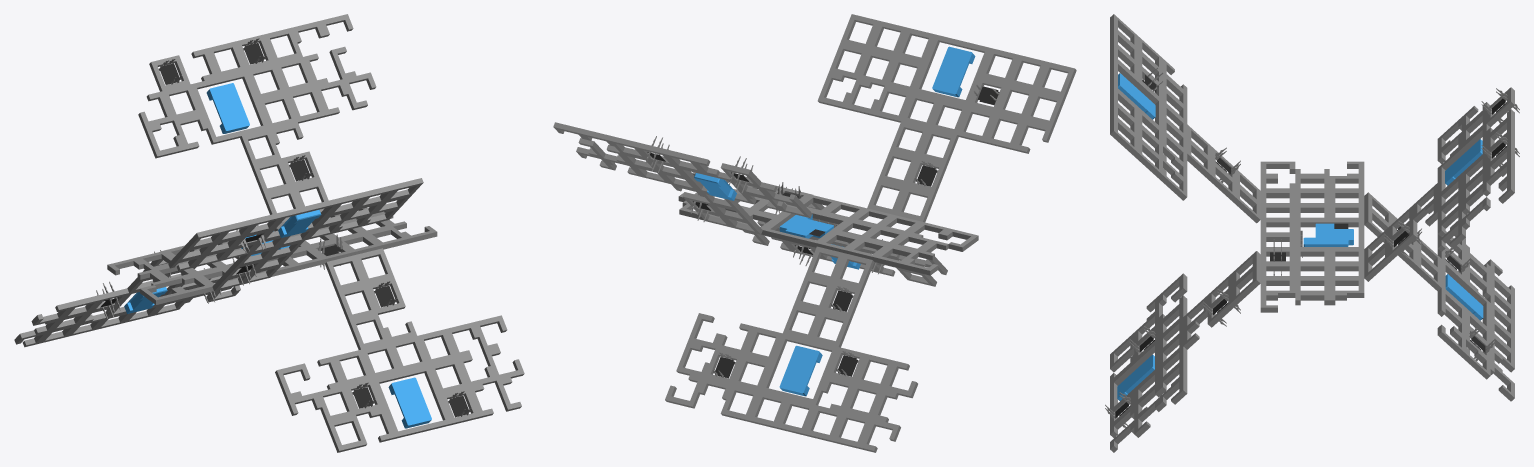
Rendered from StarbaseAtlasProjectKingdomHQ.glb.
The picture shows the model from 3 angles, left to right: view 1: azimuth 30°, elevation 25°; view 2: azimuth 150°, elevation 25°; view 3: azimuth 270°, elevation 25°; orthographic projection. The views are drawn at different scales.
Visible parts, largest first — view 1: Block_Ship_Hangars_Kingdom.001, Block_Ship_Hangars_Kingdom.003, Block_Ship_Hangars_Kingdom.002, Quarter_Block_Towers.020, Quarter_Block_Towers.025, Quarter_Block_Towers.023, Quarter_Block_Towers.024, Quarter_Block_Towers.019, Quarter_Block_Towers.018, Block_Ship_Hangars_Kingdom.004, Quarter_Block.131, Quarter_Block.124 (+29 smaller); view 2: Block_Ship_Hangars_Kingdom.004, Block_Ship_Hangars_Kingdom.002, Block_Ship_Shop_Kingdom.001, Block_Ship_Hangars_Kingdom.001, Quarter_Block_Towers.021, Quarter_Block_Towers.026, Quarter_Block_Towers.027, Quarter_Block_Towers.028, Quarter_Block_Towers.022, Quarter_Block.138, Quarter_Block.112, Quarter_Block.104 (+41 smaller); view 3: Block_Ship_Shop_Kingdom.001, Block_Ship_Hangars_Kingdom.002, Block_Ship_Hangars_Kingdom.001, Block_Ship_Hangars_Kingdom.004, Block_Ship_Hangars_Kingdom.003, Quarter_Block_Towers.018, Quarter_Block_Towers.020, Quarter_Block_Towers.023, Quarter_Block.122, Quarter_Block.127, Quarter_Block_Towers.017, Quarter_Block.103 (+53 smaller).
Boxes of the visible parts, x1,y1,x2,y2 form: Block_Ship_Hangars_Kingdom.001: [190, 70, 269, 144]; Block_Ship_Hangars_Kingdom.003: [373, 365, 451, 438]; Block_Ship_Hangars_Kingdom.002: [262, 198, 338, 241]; Quarter_Block_Towers.020: [149, 55, 190, 91]; Quarter_Block_Towers.025: [440, 387, 479, 425]; Quarter_Block_Towers.023: [366, 277, 405, 314]; Quarter_Block_Towers.024: [344, 379, 383, 416]; Quarter_Block_Towers.019: [235, 34, 274, 70]; Quarter_Block_Towers.018: [281, 151, 320, 187]; Block_Ship_Hangars_Kingdom.004: [105, 283, 181, 317]; Quarter_Block.131: [326, 415, 367, 452]; Quarter_Block.124: [336, 284, 377, 321]; Block_Ship_Hangars_Kingdom.004: [760, 333, 838, 405]; Block_Ship_Hangars_Kingdom.002: [913, 34, 990, 105]; Block_Ship_Shop_Kingdom.001: [763, 206, 850, 247]; Block_Ship_Hangars_Kingdom.001: [677, 166, 756, 204]; Quarter_Block_Towers.021: [906, 157, 947, 194]; Quarter_Block_Towers.026: [822, 282, 862, 319]; Quarter_Block_Towers.027: [827, 347, 865, 382]; Quarter_Block_Towers.028: [704, 349, 742, 384]; Quarter_Block_Towers.022: [968, 77, 1007, 112]; Quarter_Block.138: [833, 253, 874, 290]; Quarter_Block.112: [1024, 91, 1065, 127]; Quarter_Block.104: [895, 186, 935, 222]; Block_Ship_Shop_Kingdom.001: [1295, 220, 1364, 257]; Block_Ship_Hangars_Kingdom.002: [1110, 58, 1162, 130]; Block_Ship_Hangars_Kingdom.001: [1437, 124, 1490, 196]; Block_Ship_Hangars_Kingdom.004: [1441, 259, 1490, 331]; Block_Ship_Hangars_Kingdom.003: [1110, 339, 1158, 411]; Quarter_Block_Towers.018: [1384, 219, 1422, 259]; Quarter_Block_Towers.020: [1481, 87, 1519, 127]; Quarter_Block_Towers.023: [1203, 288, 1240, 327]; Quarter_Block.122: [1110, 116, 1138, 156]; Quarter_Block.127: [1232, 265, 1260, 305]; Quarter_Block_Towers.017: [1260, 239, 1295, 275]; Quarter_Block.103: [1208, 161, 1236, 201].
Bounding box in the file's own units: 2220 × 1653 × 2220.
